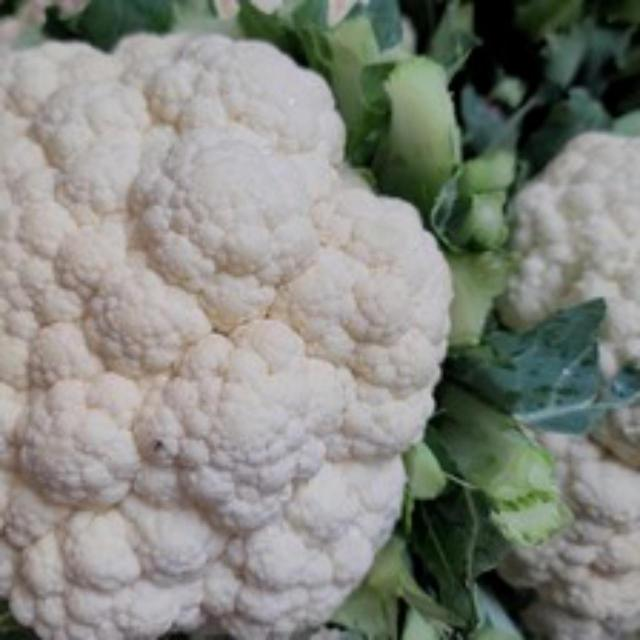cauliflower: (0, 28, 466, 637)
